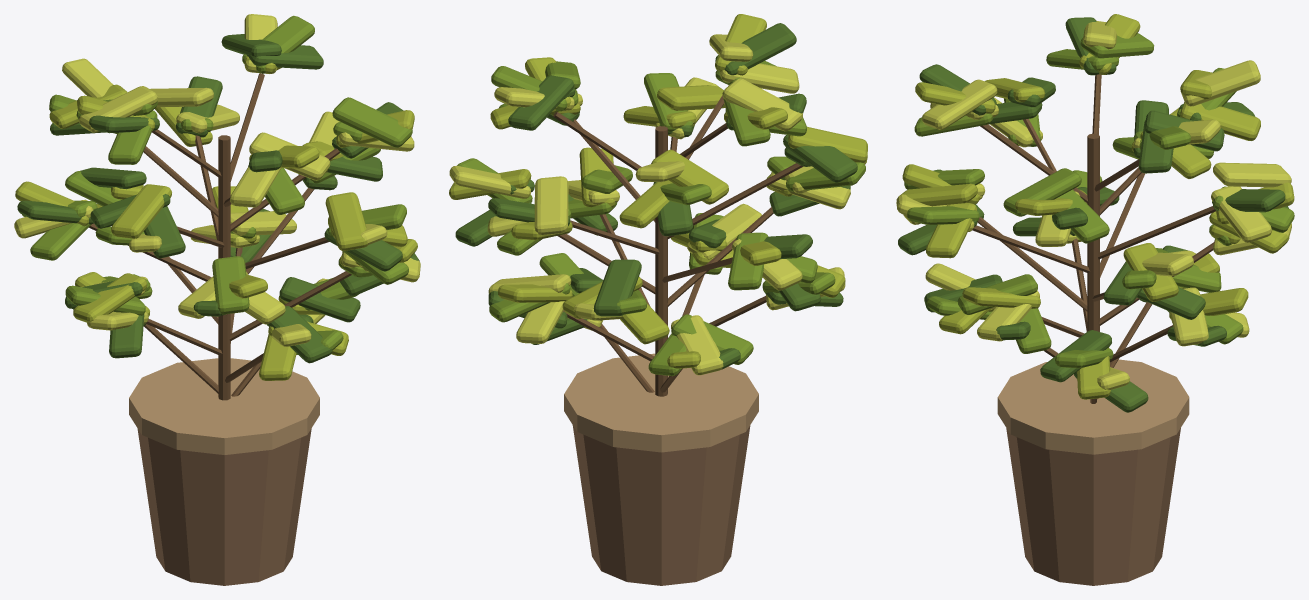
Rendered from plant_floor.glb.
3 renders of one model, left to right at view 1: azimuth 30°, elevation 25°; view 2: azimuth 150°, elevation 25°; view 3: azimuth 270°, elevation 25°, orthographic. The views are drawn at different scales.
Parts seen in each view (by area): view 1: plant_floor__terracotta, plant_floor__leaf, plant_floor__leaf_tip, plant_floor__leaf_mid, plant_floor__leaf_light, plant_floor__pot_rim, plant_floor__bark; view 2: plant_floor__terracotta, plant_floor__leaf_tip, plant_floor__leaf_light, plant_floor__leaf_mid, plant_floor__leaf, plant_floor__pot_rim, plant_floor__bark; view 3: plant_floor__terracotta, plant_floor__leaf_light, plant_floor__leaf_tip, plant_floor__leaf_mid, plant_floor__leaf, plant_floor__pot_rim, plant_floor__bark.
Boxes of the visible parts, x1,y1,x2,y2 form: plant_floor__terracotta: (137, 428, 311, 585); plant_floor__leaf: (17, 34, 419, 363); plant_floor__leaf_tip: (14, 14, 420, 346); plant_floor__leaf_mid: (22, 15, 412, 354); plant_floor__leaf_light: (15, 56, 417, 380); plant_floor__pot_rim: (129, 358, 319, 454); plant_floor__bark: (89, 73, 351, 400); plant_floor__terracotta: (572, 425, 750, 585); plant_floor__leaf_tip: (449, 34, 867, 375); plant_floor__leaf_light: (449, 14, 867, 368); plant_floor__leaf_mid: (457, 61, 865, 376); plant_floor__leaf: (455, 23, 857, 369); plant_floor__pot_rim: (564, 353, 758, 452); plant_floor__bark: (553, 85, 803, 396); plant_floor__terracotta: (1006, 428, 1180, 585); plant_floor__leaf_light: (896, 14, 1294, 399); plant_floor__leaf_tip: (896, 21, 1291, 389); plant_floor__leaf_mid: (904, 33, 1294, 368); plant_floor__leaf: (898, 17, 1288, 412); plant_floor__pot_rim: (997, 359, 1189, 454); plant_floor__bark: (972, 74, 1215, 403).
Bounding box in the file's own units: 0.7475 × 0.9999 × 0.7414.
